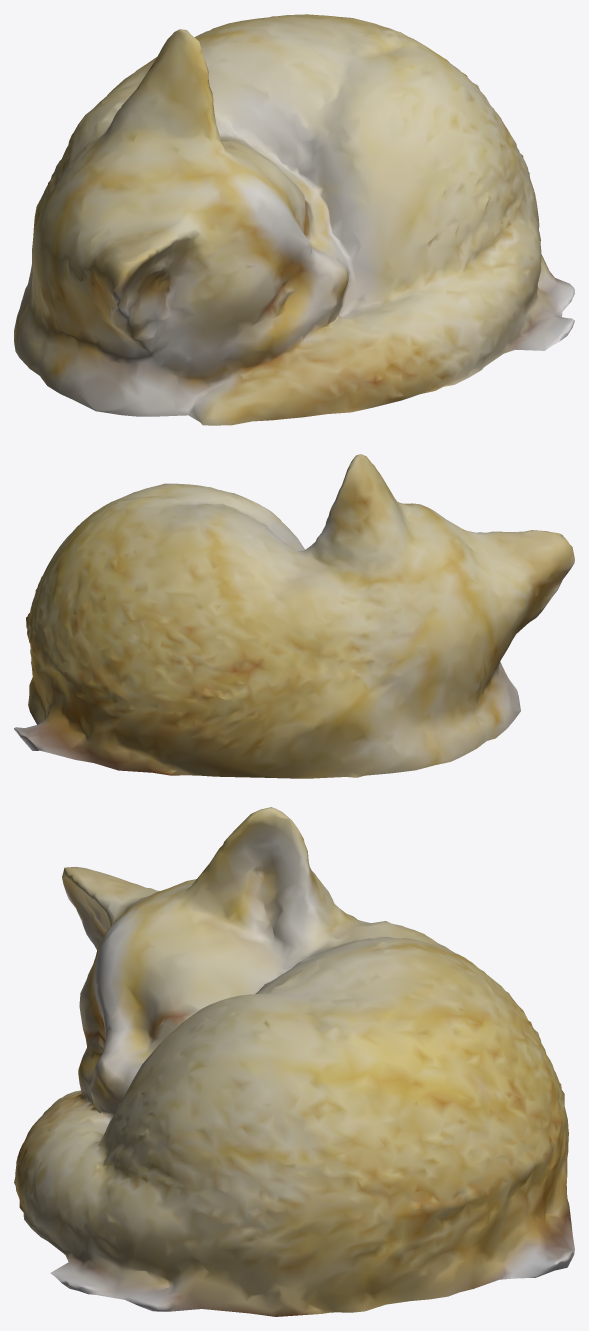
The model's file is catfigure.glb.
3 views of the same model, one above another, from view 1: azimuth 30°, elevation 25°; view 2: azimuth 150°, elevation 25°; view 3: azimuth 270°, elevation 25° (orthographic). The views are drawn at different scales.
Size of the model in its own units: 1 by 0.5797 by 0.8914.
